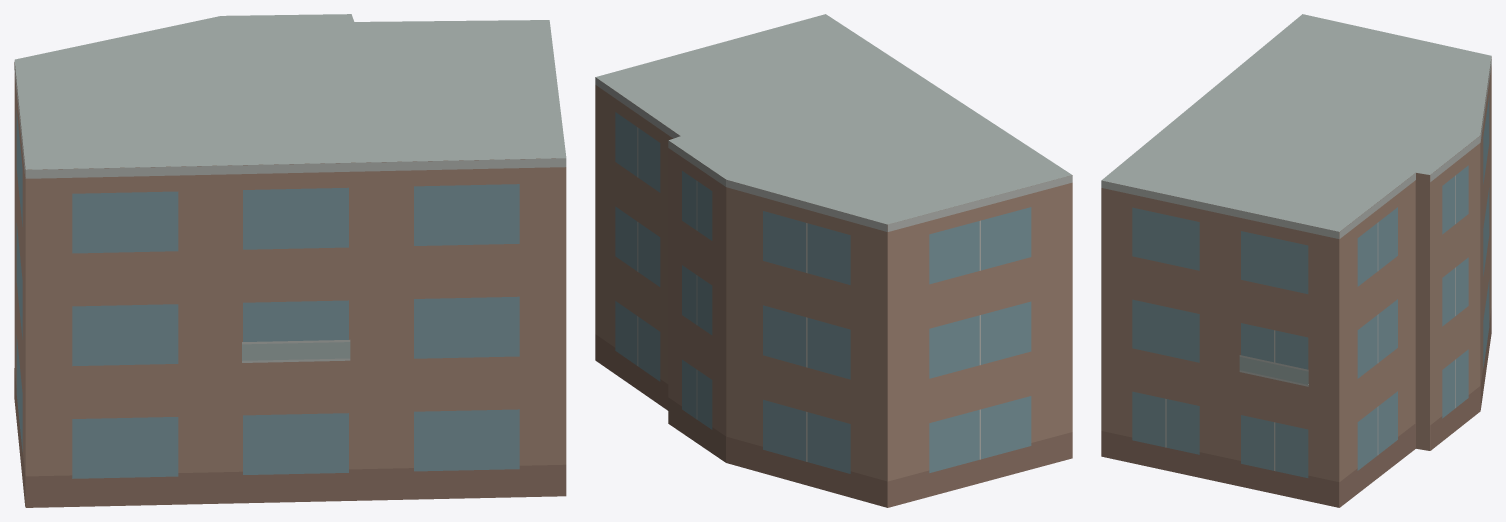
The model's file is survey-upis-32977631.glb.
3 renders of one model, left to right at view 1: azimuth 30°, elevation 25°; view 2: azimuth 150°, elevation 25°; view 3: azimuth 270°, elevation 25°, orthographic. The views are drawn at different scales.
Parts seen in each view (by area): view 1: survey-upis-32977631.tmp; view 2: survey-upis-32977631.tmp; view 3: survey-upis-32977631.tmp.
Part boxes in pixels (x1,y1,x2,y2): survey-upis-32977631.tmp: (14,14,566,507); survey-upis-32977631.tmp: (595,14,1072,507); survey-upis-32977631.tmp: (1101,14,1491,507).
Size of the model in its own units: 15.5 by 9.15 by 11.74.
